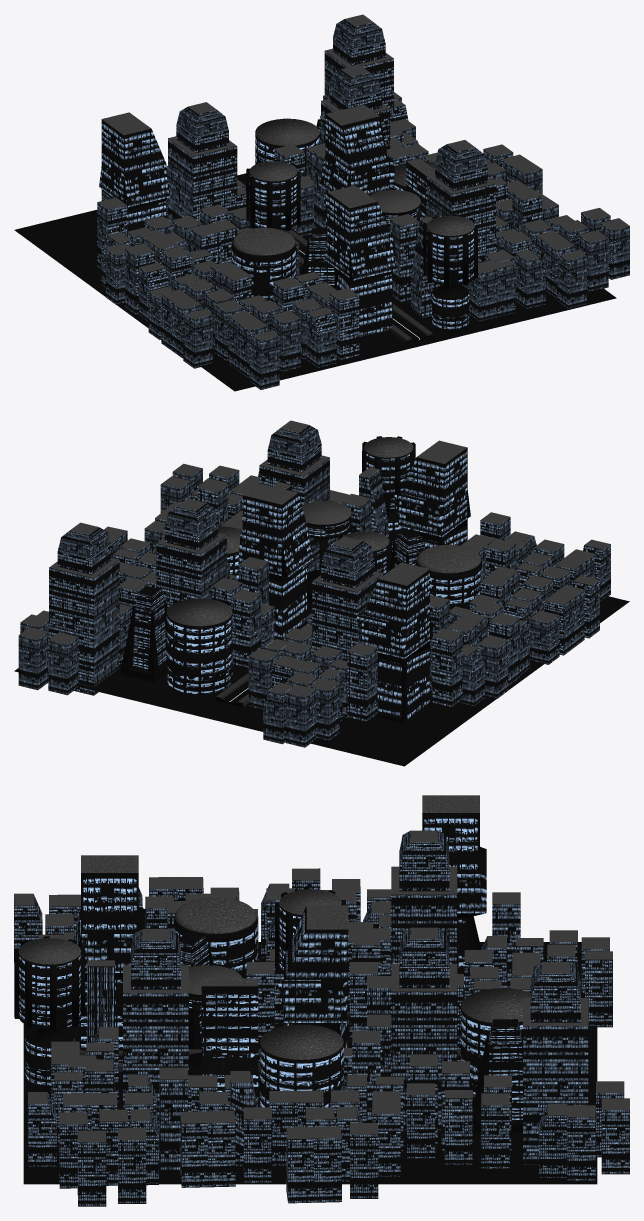
Rendered from citytest.glb.
The picture shows the model from 3 angles, top to bottom: view 1: azimuth 30°, elevation 25°; view 2: azimuth 150°, elevation 25°; view 3: azimuth 270°, elevation 25°; orthographic projection. The views are drawn at different scales.
Parts seen in each view (by area): view 1: Plane, Cube.033, Cube, Cube.065, Cylinder.005, Cube.008, Cube.023, Cube.103, Cylinder, Cylinder.002, Cube.021, Cube.042 (+38 smaller); view 2: Plane, Cube.103, Cube.065, Cube.008, Cube.033, Cylinder.001, Cube.021, Cube, Cube.023, Cube.022, Cylinder.002, Cylinder.005 (+46 smaller); view 3: Cube.103, Cube.023, Plane, Cube.021, Cylinder.005, Cube.008, Cube.033, Cube, Cube.019, Cube.065, Cylinder.004, Cylinder.002 (+63 smaller).
Boxes of the visible parts, bbox=[...] form: Plane: bbox=[14, 173, 616, 391]; Cube.033: bbox=[325, 185, 395, 339]; Cube: bbox=[168, 102, 237, 222]; Cube.065: bbox=[99, 112, 169, 236]; Cylinder.005: bbox=[423, 214, 477, 333]; Cube.008: bbox=[319, 104, 394, 228]; Cube.023: bbox=[426, 140, 495, 261]; Cube.103: bbox=[324, 14, 393, 122]; Cylinder: bbox=[246, 160, 300, 234]; Cylinder.002: bbox=[231, 227, 296, 301]; Cube.021: bbox=[321, 64, 390, 149]; Cube.042: bbox=[468, 260, 515, 321]; Plane: bbox=[14, 596, 629, 766]; Cube.103: bbox=[49, 522, 119, 695]; Cube.065: bbox=[357, 562, 432, 723]; Cube.008: bbox=[238, 483, 313, 640]; Cube.033: bbox=[394, 440, 470, 548]; Cylinder.001: bbox=[166, 598, 232, 693]; Cube.021: bbox=[156, 498, 226, 608]; Cube: bbox=[312, 536, 382, 661]; Cube.023: bbox=[259, 420, 329, 572]; Cube.022: bbox=[121, 586, 167, 681]; Cylinder.002: bbox=[416, 544, 481, 610]; Cylinder.005: bbox=[362, 436, 415, 551]; Cube.103: bbox=[523, 962, 588, 1164]; Cube.023: bbox=[123, 929, 188, 1131]; Plane: bbox=[23, 942, 597, 1184]; Cube.021: bbox=[391, 927, 457, 1130]; Cylinder.005: bbox=[14, 936, 85, 1091]; Cube.008: bbox=[278, 905, 348, 1047]; Cube.033: bbox=[73, 855, 145, 1050]; Cube: bbox=[391, 830, 457, 963]; Cube.019: bbox=[201, 978, 258, 1106]; Cube.065: bbox=[422, 795, 486, 995]; Cylinder.004: bbox=[260, 1024, 343, 1107]; Cylinder.002: bbox=[174, 897, 257, 978].
Bounding box in the file's own units: 221 × 75.56 × 215.
Materials: 7 (2 with a texture image).
